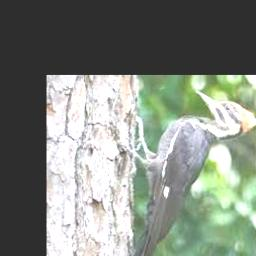Woodpecker: (127, 91, 256, 256)
